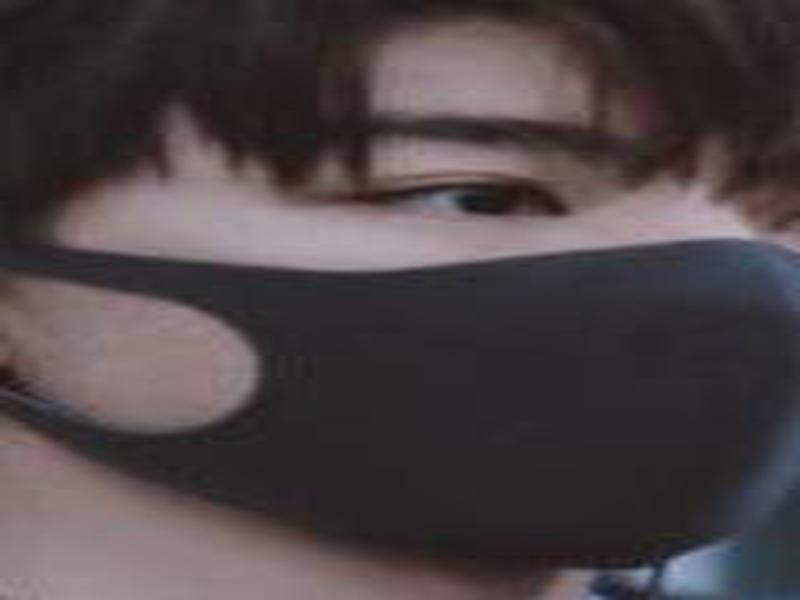with_mask: (1, 1, 796, 600)
